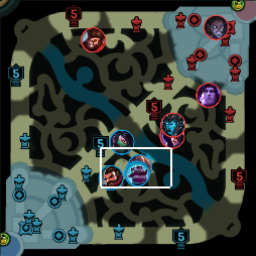akali: (109, 129, 133, 153)
braum: (124, 162, 149, 185)
graves: (98, 165, 121, 189)
kalista: (160, 111, 184, 135)
monkeyking: (80, 27, 105, 50)
poppy: (128, 154, 150, 176)
sylas: (202, 15, 229, 39)
talon: (159, 126, 184, 147)
taric: (195, 81, 219, 108)
